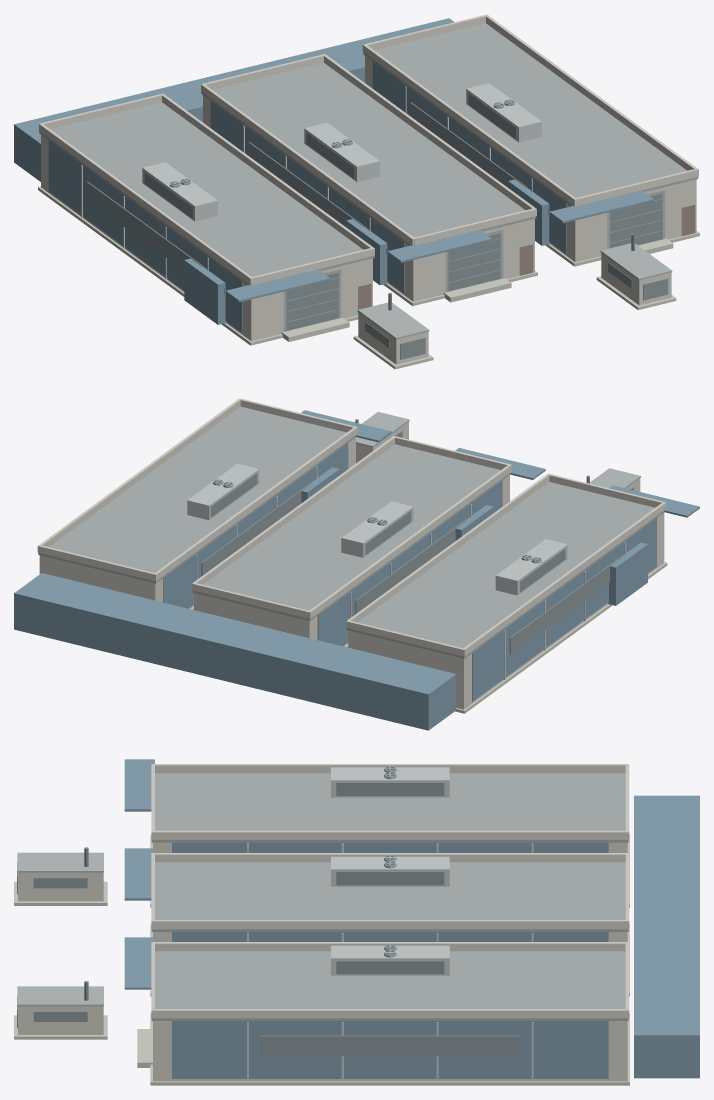
File: dc-modular-pods.glb
3 renders of one model, top to bottom at view 1: azimuth 30°, elevation 25°; view 2: azimuth 150°, elevation 25°; view 3: azimuth 270°, elevation 25°, orthographic. The views are drawn at different scales.
Visible parts, largest first — view 1: dc-modular-pods; view 2: dc-modular-pods; view 3: dc-modular-pods.
Part boxes in pixels (x1,y1,x2,y2): dc-modular-pods: (14, 14, 699, 369); dc-modular-pods: (14, 398, 699, 730); dc-modular-pods: (14, 759, 699, 1085).
Bounding box in the file's own units: 46.66 × 7.3 × 52.05.
